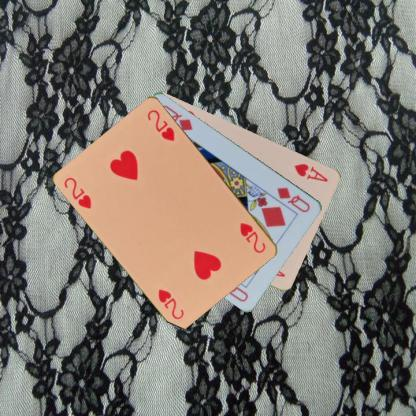2h: (61, 174, 93, 210), (238, 218, 268, 255)
Ah: (292, 161, 329, 183)
Qd: (274, 184, 312, 214)
